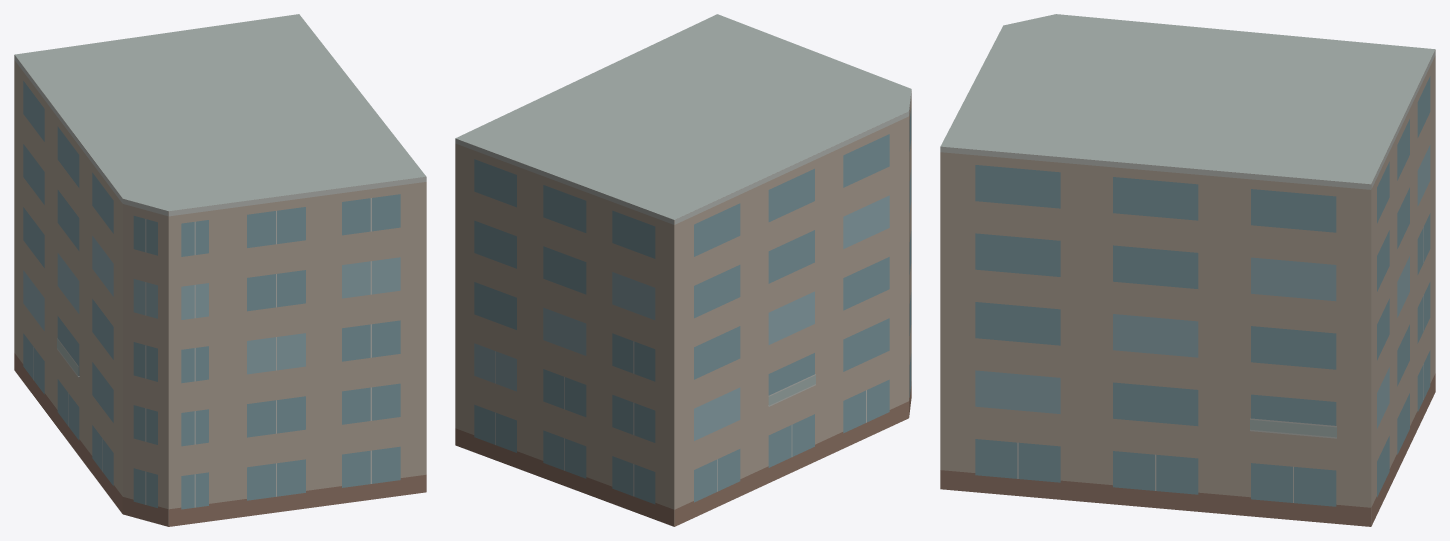
Rendered from survey-upis-32701547.glb.
3 renders of one model, left to right at view 1: azimuth 30°, elevation 25°; view 2: azimuth 150°, elevation 25°; view 3: azimuth 270°, elevation 25°, orthographic. The views are drawn at different scales.
Visible parts, largest first — view 1: survey-upis-32701547.tmp; view 2: survey-upis-32701547.tmp; view 3: survey-upis-32701547.tmp.
Part boxes in pixels (left/top/right/bottom): survey-upis-32701547.tmp: left=14, top=14, right=426, bottom=526; survey-upis-32701547.tmp: left=455, top=14, right=911, bottom=526; survey-upis-32701547.tmp: left=940, top=14, right=1435, bottom=526.
Size of the model in its own units: 15.89 by 14.9 by 19.53.
